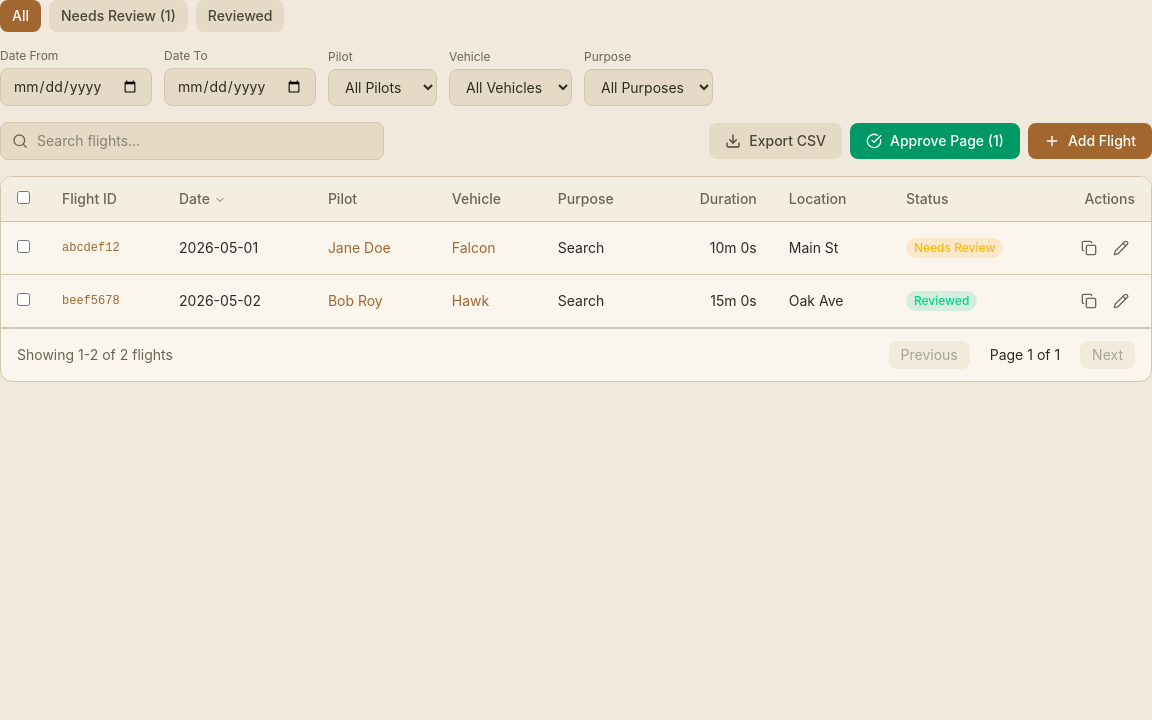
Test: FlightsPage › says nothing will change when every selected row already holds the value
Click the checkbox named "Select all flights on this page". click: (24, 198)
box: [17, 191, 30, 204]
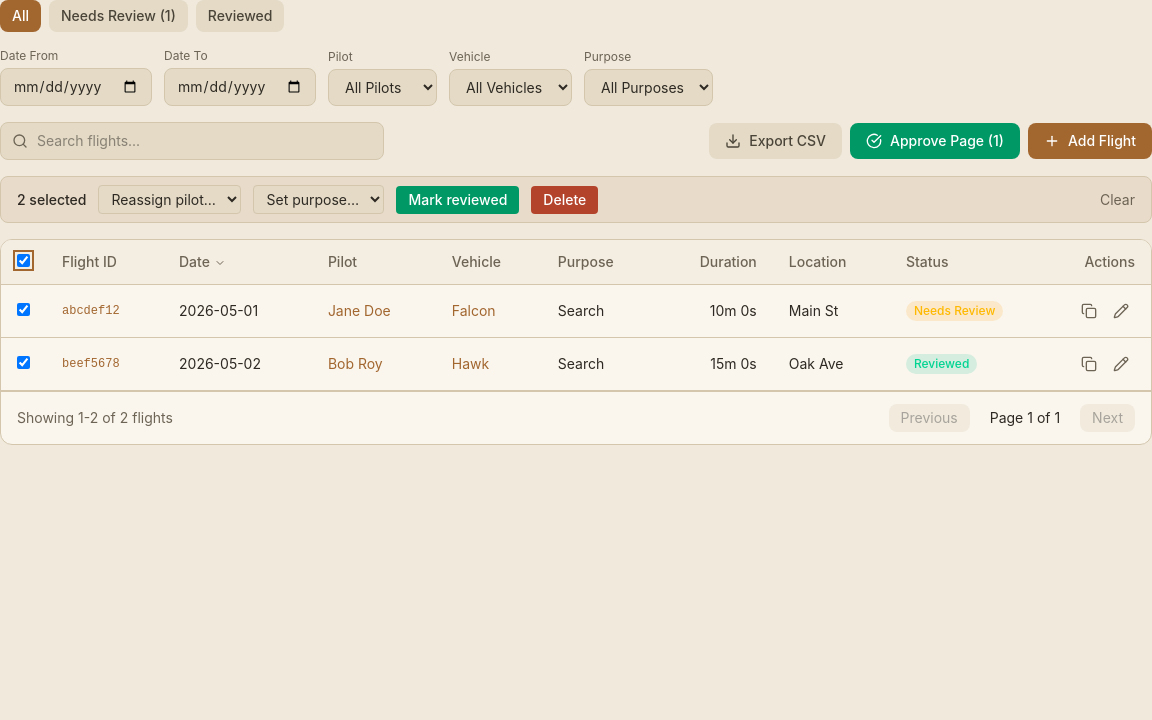
Expected: the text "2 selected" is shown, [17, 190, 86, 210]
Select "Search" in the dropdown named "Set purpose for selected flights". click: (319, 200)
box: [254, 185, 384, 214]
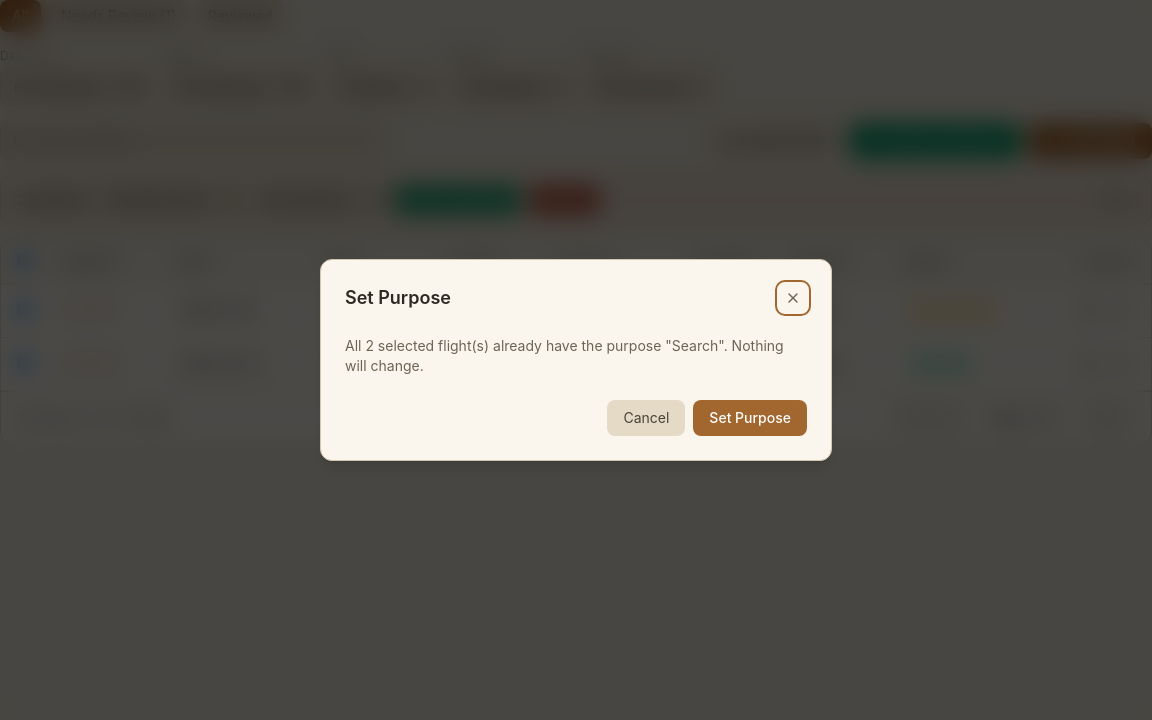
Expected: the text "All 2 selected flight(s) already have the purpose \"Search\". Nothing will change." is shown, [345, 336, 807, 376]
